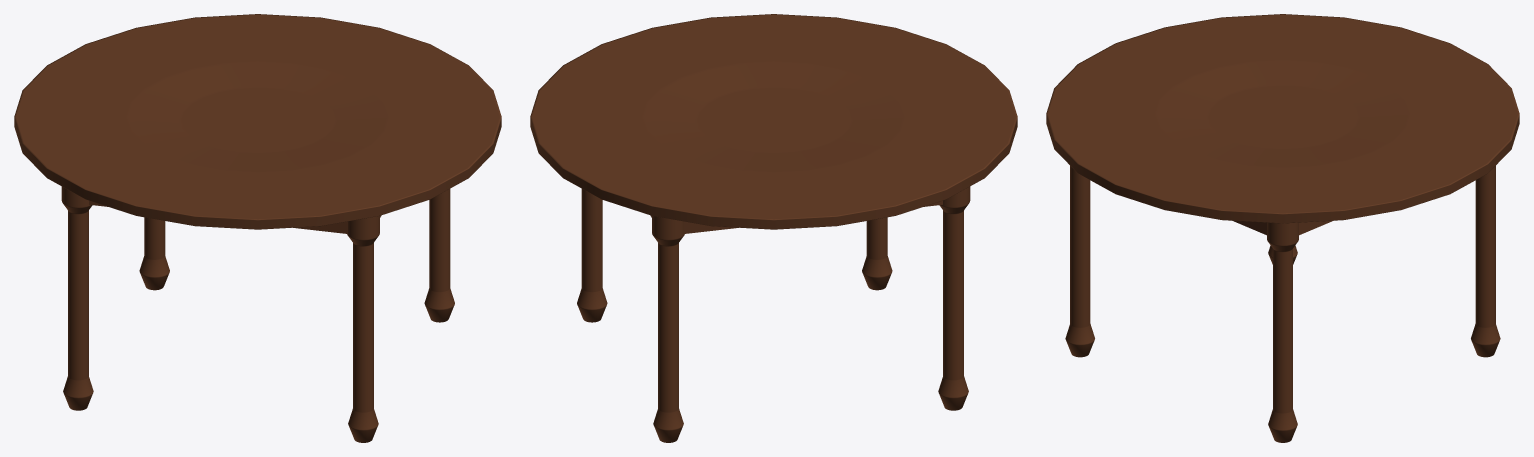
The model's file is table.glb.
3 views of the same model, side by side, from view 1: azimuth 30°, elevation 25°; view 2: azimuth 150°, elevation 25°; view 3: azimuth 270°, elevation 25° (orthographic). The views are drawn at different scales.
Visible parts, largest first — view 1: Table, Leg; view 2: Table, Leg; view 3: Table, Leg, Support.
Boxes of the visible parts, x1,y1,x2,y2 form: Table: [14, 14, 501, 229]; Leg: [61, 186, 454, 442]; Table: [530, 14, 1017, 229]; Leg: [577, 186, 970, 442]; Table: [1046, 14, 1519, 223]; Leg: [1065, 166, 1500, 442]; Support: [1232, 220, 1333, 235].
Size of the model in its own units: 2.61 by 1.46 by 2.61.
Materials: 3 (3 with a texture image).
